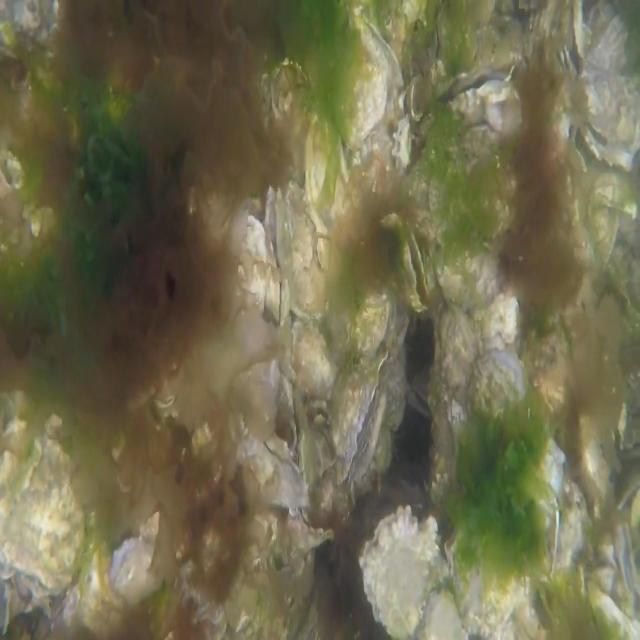Oyster-Closed: (444, 522, 542, 640), (333, 346, 390, 485), (233, 432, 309, 514), (289, 502, 334, 555)
Oyster-Indeterminate: (460, 345, 566, 502), (0, 413, 84, 597), (359, 503, 439, 640), (332, 0, 389, 151), (436, 302, 480, 466), (303, 112, 356, 236), (284, 177, 326, 319), (349, 285, 409, 368), (287, 316, 334, 413), (433, 240, 504, 304), (239, 215, 268, 306)
Oyster-Open: (574, 10, 640, 171), (436, 66, 523, 161), (262, 183, 286, 322), (401, 229, 432, 313), (615, 520, 640, 617), (562, 0, 587, 77)
